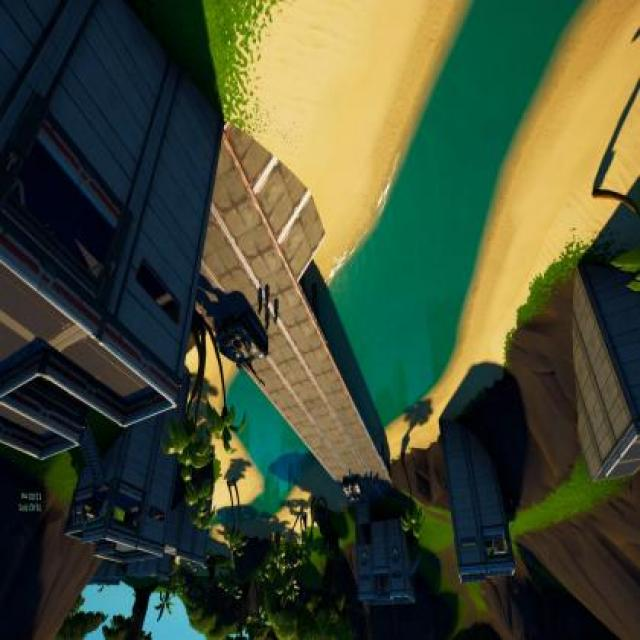tank: (214, 307, 269, 388), (343, 478, 364, 508)
